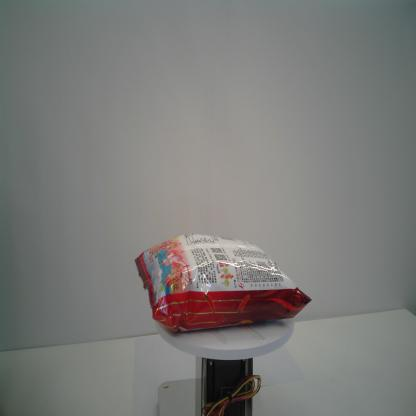Puffed Food: (134, 232, 314, 335)
